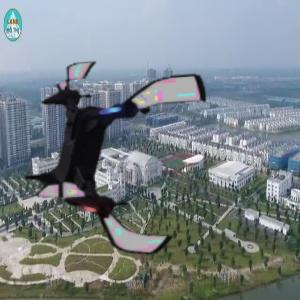drone: (14, 56, 222, 264)
